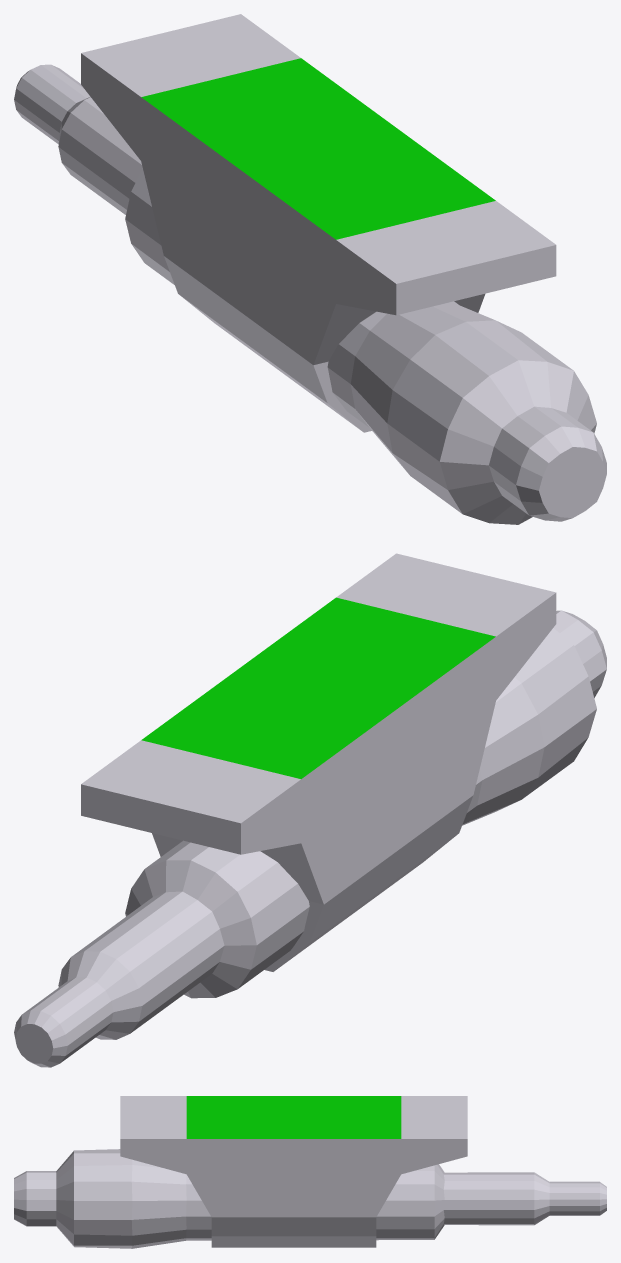
The model's file is Pointer.fbx.
3 views of the same model, one above another, from view 1: azimuth 30°, elevation 25°; view 2: azimuth 150°, elevation 25°; view 3: azimuth 270°, elevation 25° (orthographic). The views are drawn at different scales.
Visible parts, largest first — view 1: Pointer; view 2: Pointer; view 3: Pointer.
Boxes of the visible parts, x1,y1,x2,y2 form: Pointer: [14, 14, 606, 524]; Pointer: [14, 553, 606, 1067]; Pointer: [14, 1096, 606, 1248].
Bounding box in the file's own units: 1.24 × 1.7 × 7.2.
